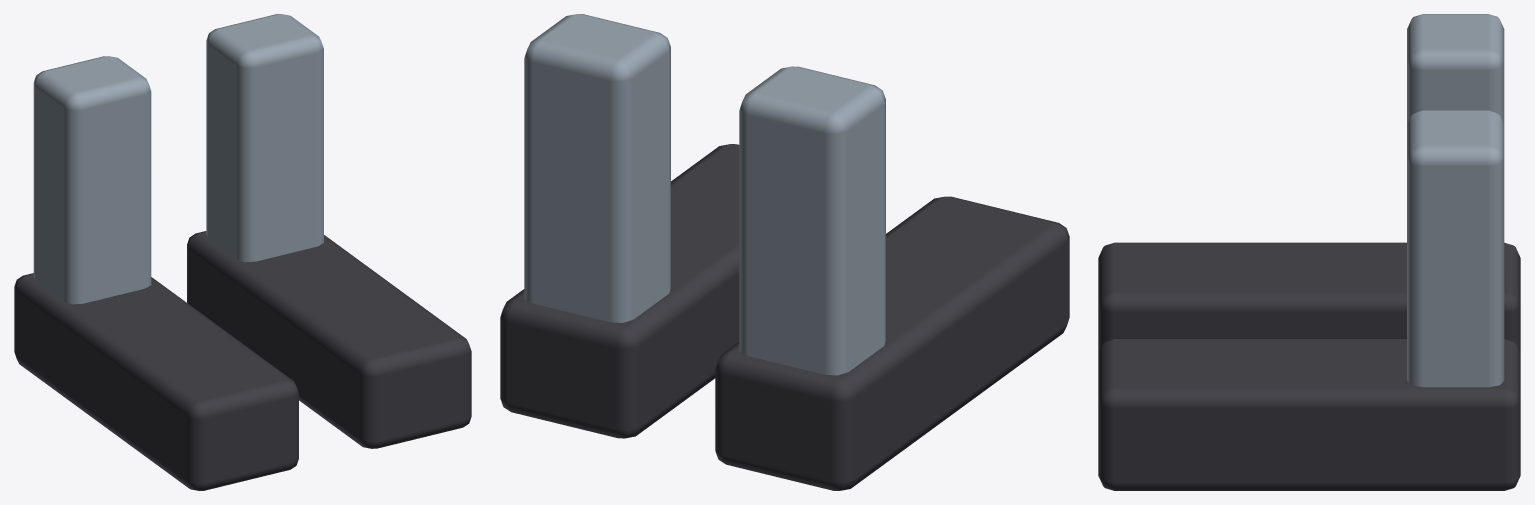
The model's file is SM_Shoes.fbx.
3 renders of one model, left to right at view 1: azimuth 30°, elevation 25°; view 2: azimuth 150°, elevation 25°; view 3: azimuth 270°, elevation 25°, orthographic. The views are drawn at different scales.
Visible parts, largest first — view 1: SM_Shoes; view 2: SM_Shoes; view 3: SM_Shoes.
Boxes of the visible parts, x1,y1,x2,y2 form: SM_Shoes: [14, 14, 471, 490]; SM_Shoes: [500, 14, 1069, 490]; SM_Shoes: [1098, 14, 1520, 490].
Size of the model in its own units: 0.23 by 0.23 by 0.26.
